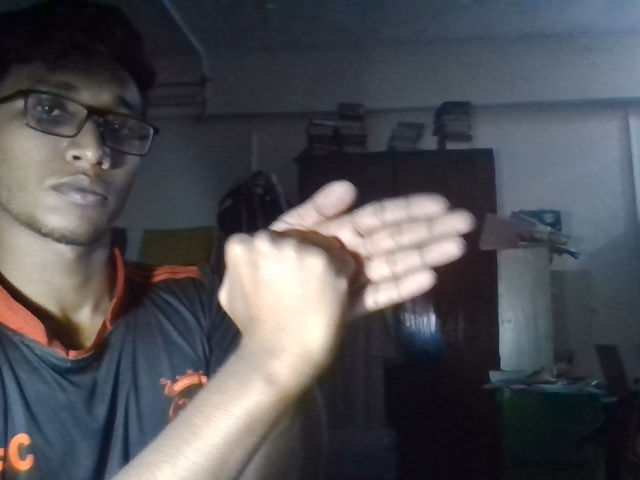b: (212, 178, 473, 367)
